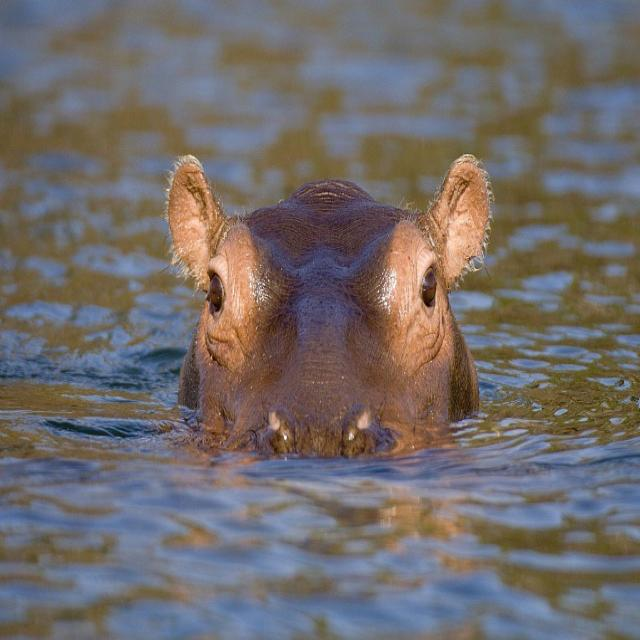Hippopotamus: (161, 148, 499, 460)
